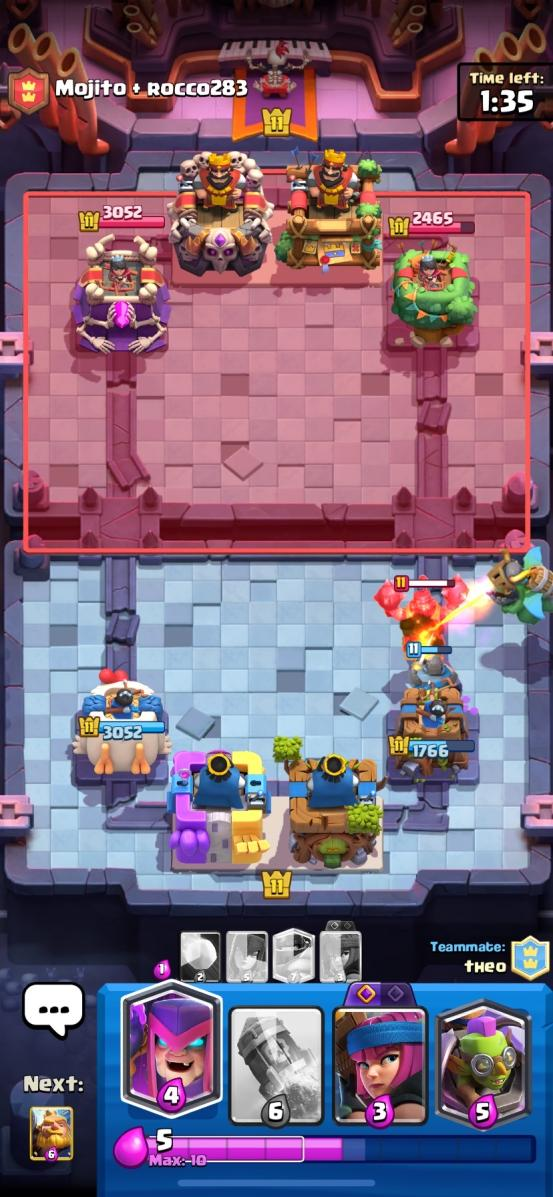EKingTower: (167, 151, 273, 276), (275, 149, 381, 271)
EMegaKnight: (374, 575, 468, 658)
EnemyPrincessTower: (72, 235, 169, 353), (392, 245, 477, 347)
OInfernoDrag: (490, 556, 552, 624)
OKnight: (409, 654, 461, 692)
OwnKingTower: (168, 750, 270, 869), (286, 754, 382, 869)
OwnPrincessTower: (77, 678, 164, 773), (395, 684, 467, 777)
